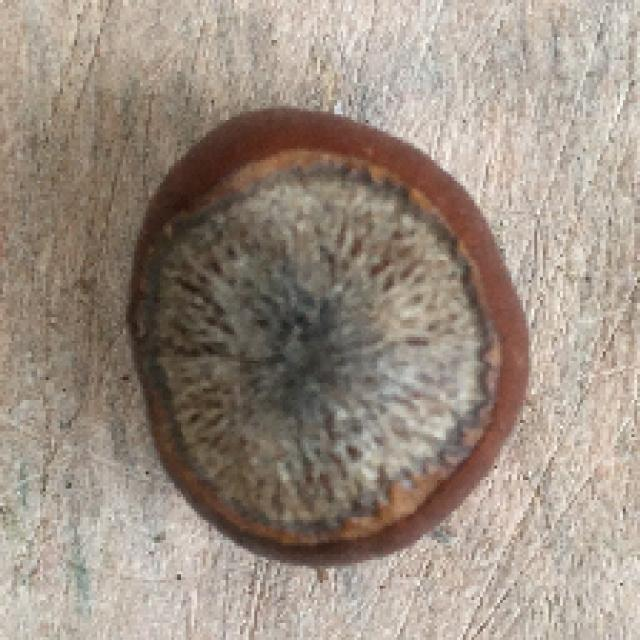damagedHazelnut: (123, 108, 541, 573)
